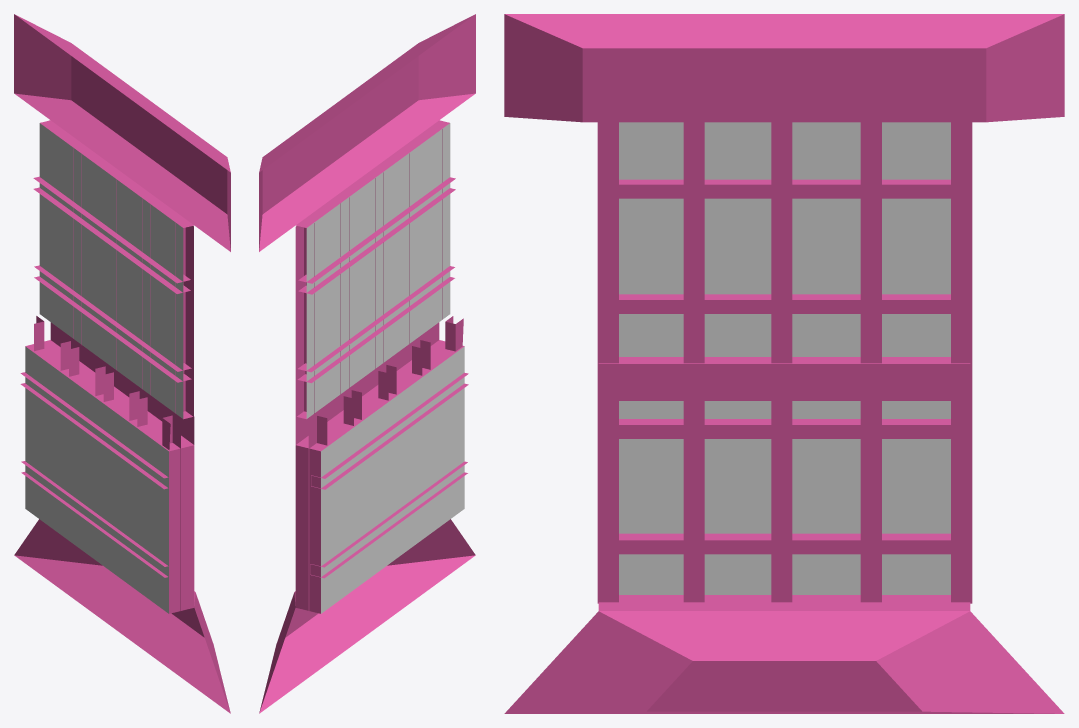
The model's file is Janela3.fbx.
The picture shows the model from 3 angles, left to right: view 1: azimuth 30°, elevation 25°; view 2: azimuth 150°, elevation 25°; view 3: azimuth 270°, elevation 25°; orthographic projection. The views are drawn at different scales.
Visible parts, largest first — view 1: Cube.001; view 2: Cube.001; view 3: Cube.001.
Boxes of the visible parts, <box> form: Cube.001: <box>14,14,230,713</box>; Cube.001: <box>259,14,475,713</box>; Cube.001: <box>504,14,1064,713</box>.
Bounding box in the file's own units: 40.43 × 309 × 224.
